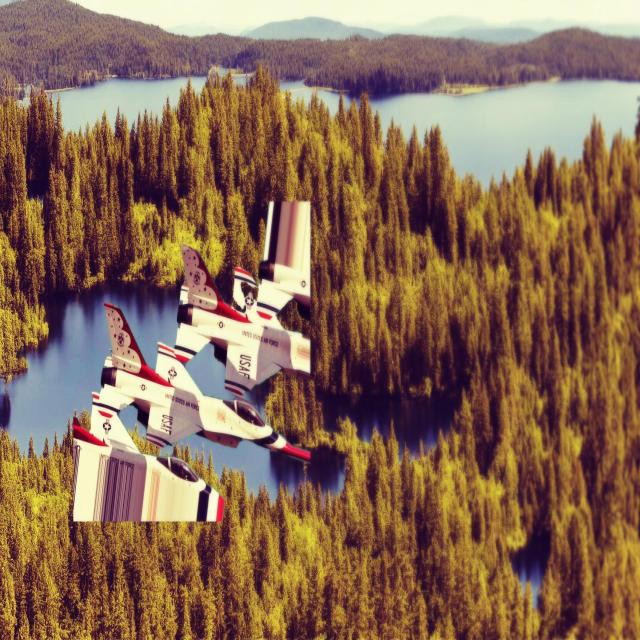airplane: (92, 301, 311, 463), (172, 199, 312, 398), (70, 397, 224, 523)
